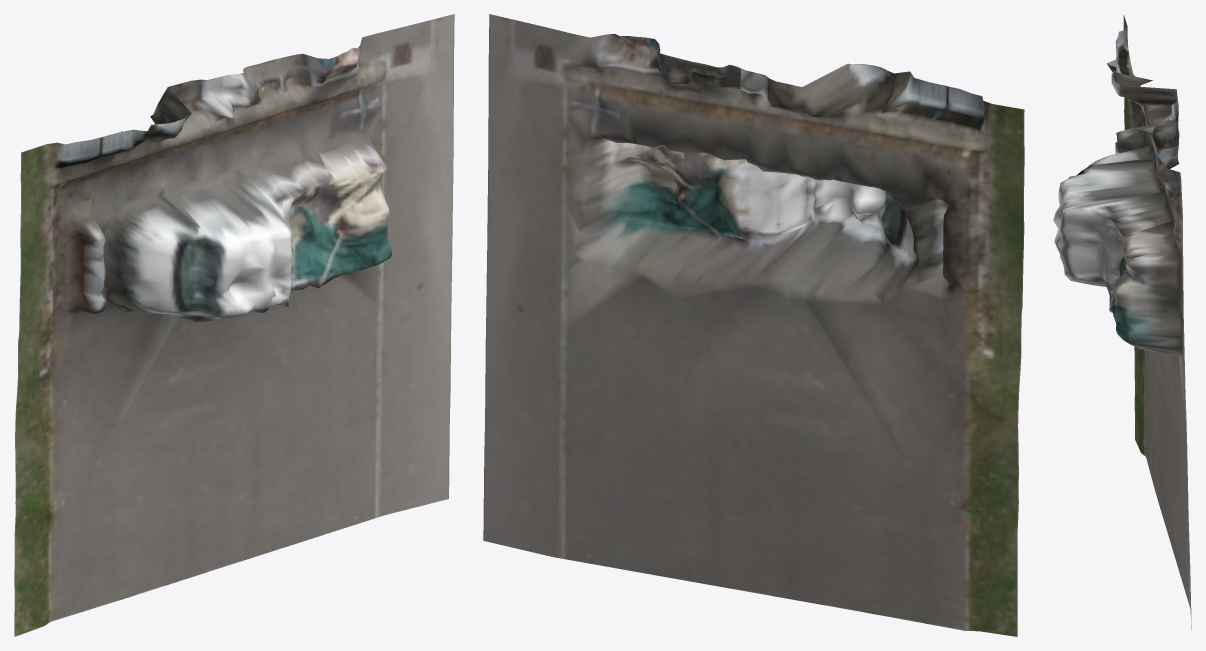
File: map_30_80.obj
3 renders of one model, left to right at view 1: azimuth 30°, elevation 25°; view 2: azimuth 150°, elevation 25°; view 3: azimuth 270°, elevation 25°, orthographic. The views are drawn at different scales.
Bounding box in the file's own units: 10 × 10 × 2.96.
1 material, 1 textured.
